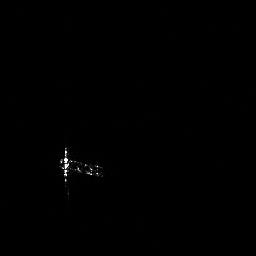ship: (53, 143, 106, 188)
